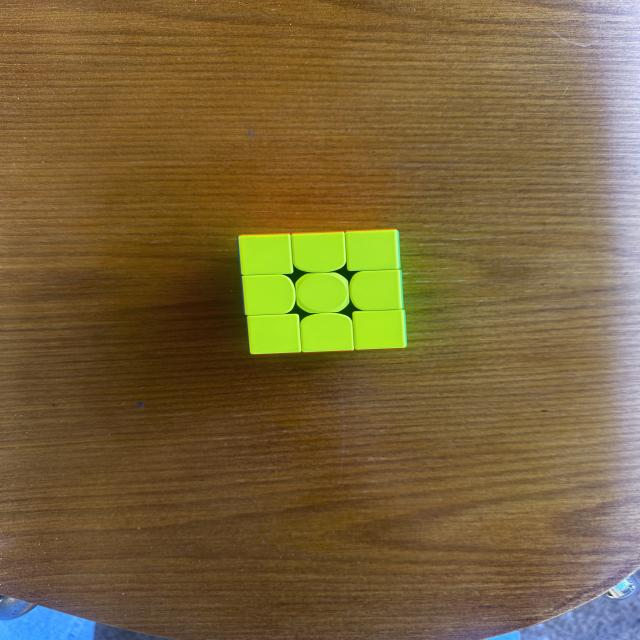sticker: (236, 231, 296, 278), (343, 228, 401, 274), (293, 271, 352, 315), (291, 230, 349, 274), (352, 308, 408, 351), (348, 269, 404, 312), (246, 313, 302, 355), (299, 312, 356, 353), (242, 274, 297, 316)
